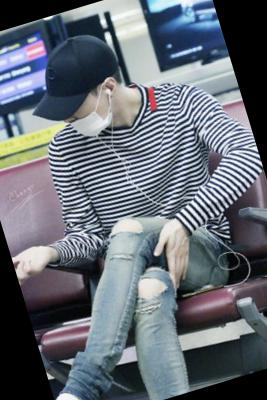mask_weared_incorrect: (58, 88, 118, 147)
